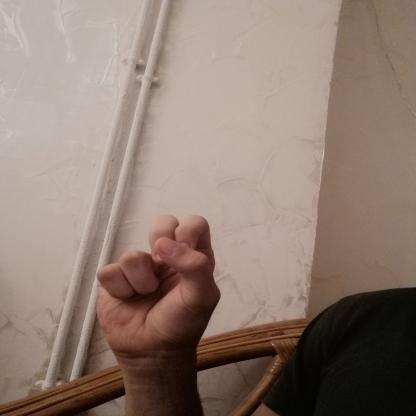QAAF: (79, 206, 236, 364)
